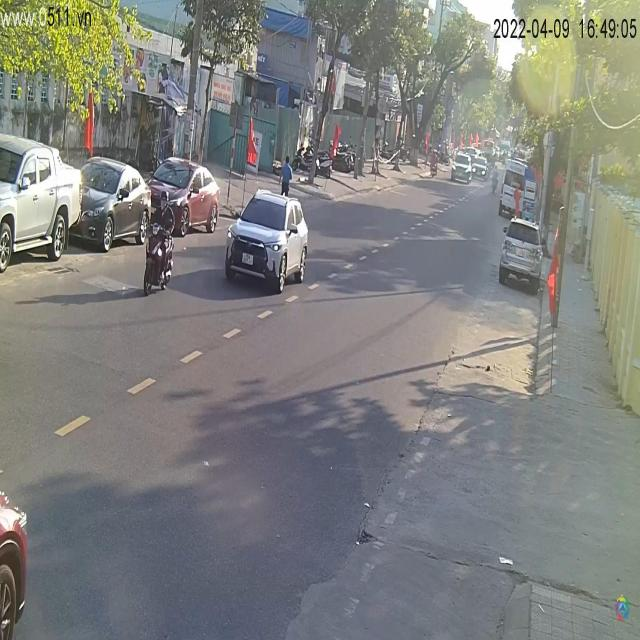car: (1, 133, 83, 276), (225, 190, 311, 293), (73, 158, 153, 253), (144, 157, 223, 236), (500, 216, 543, 295), (499, 156, 539, 220), (451, 154, 476, 183)
motorcycle: (138, 221, 174, 299)
